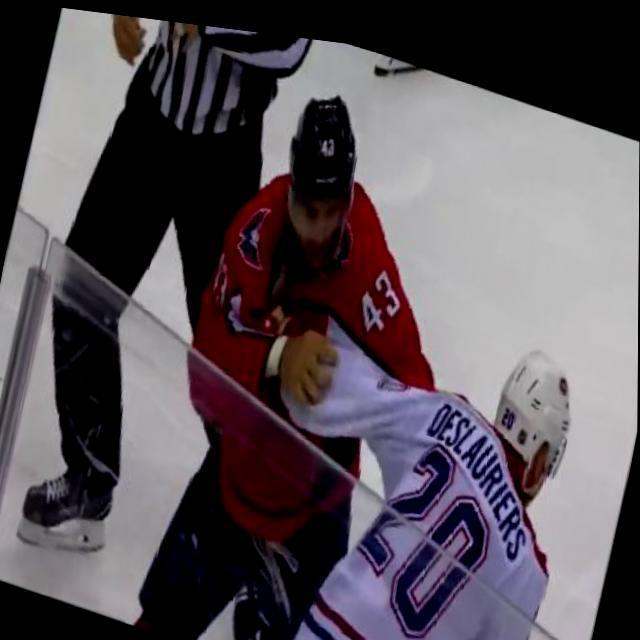fight: (130, 49, 635, 640)
